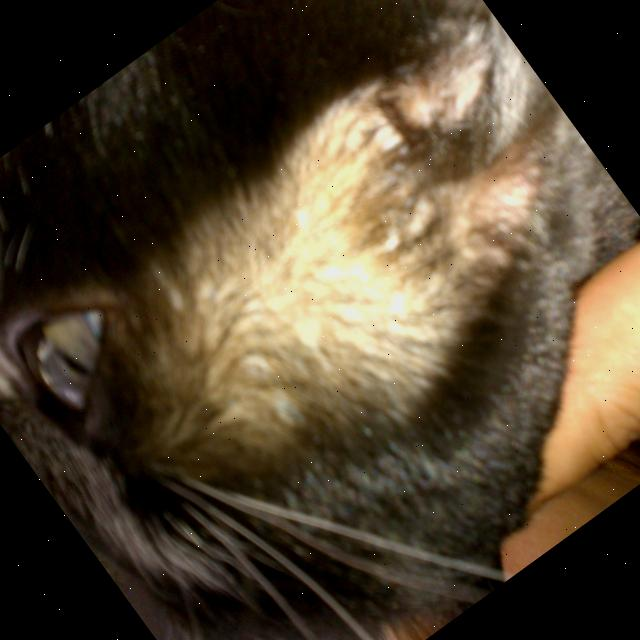cat-hairloss: (133, 89, 526, 452)
